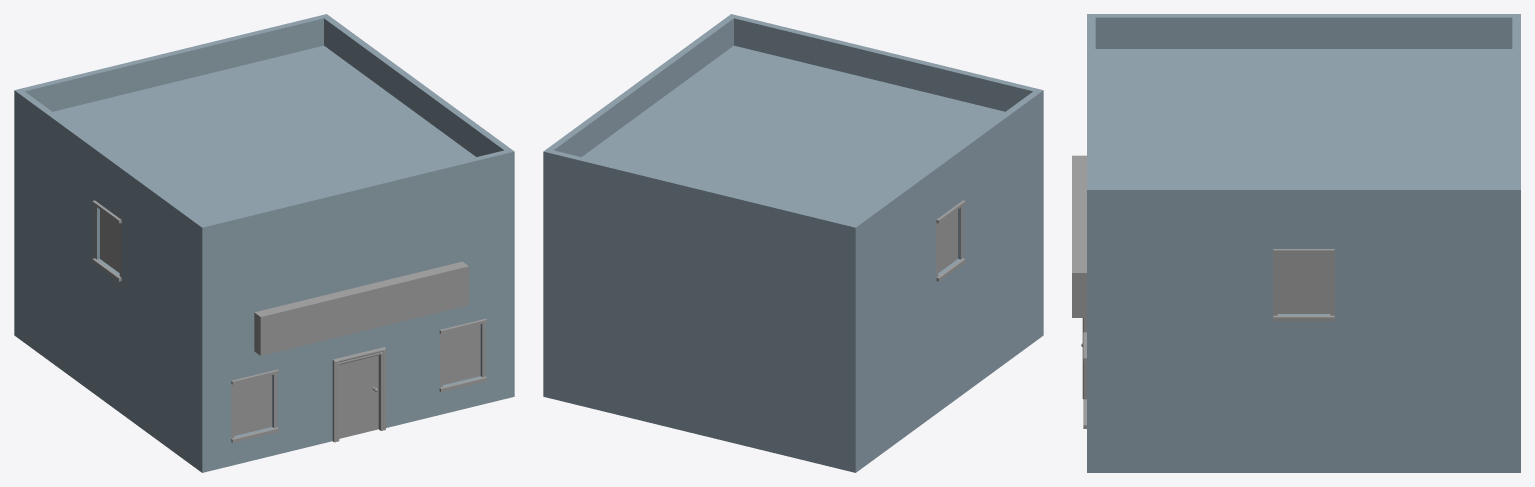
File: SM_House_Var_D.fbx
3 renders of one model, left to right at view 1: azimuth 30°, elevation 25°; view 2: azimuth 150°, elevation 25°; view 3: azimuth 270°, elevation 25°, orthographic. The views are drawn at different scales.
Parts seen in each view (by area): view 1: SM__House_Var_D; view 2: SM__House_Var_D; view 3: SM__House_Var_D.
Part boxes in pixels (<box>): SM__House_Var_D: <box>14,14,514,472</box>; SM__House_Var_D: <box>543,14,1043,472</box>; SM__House_Var_D: <box>1072,14,1520,472</box>.
Bounding box in the file's own units: 6.1 × 4.5 × 6.47.
